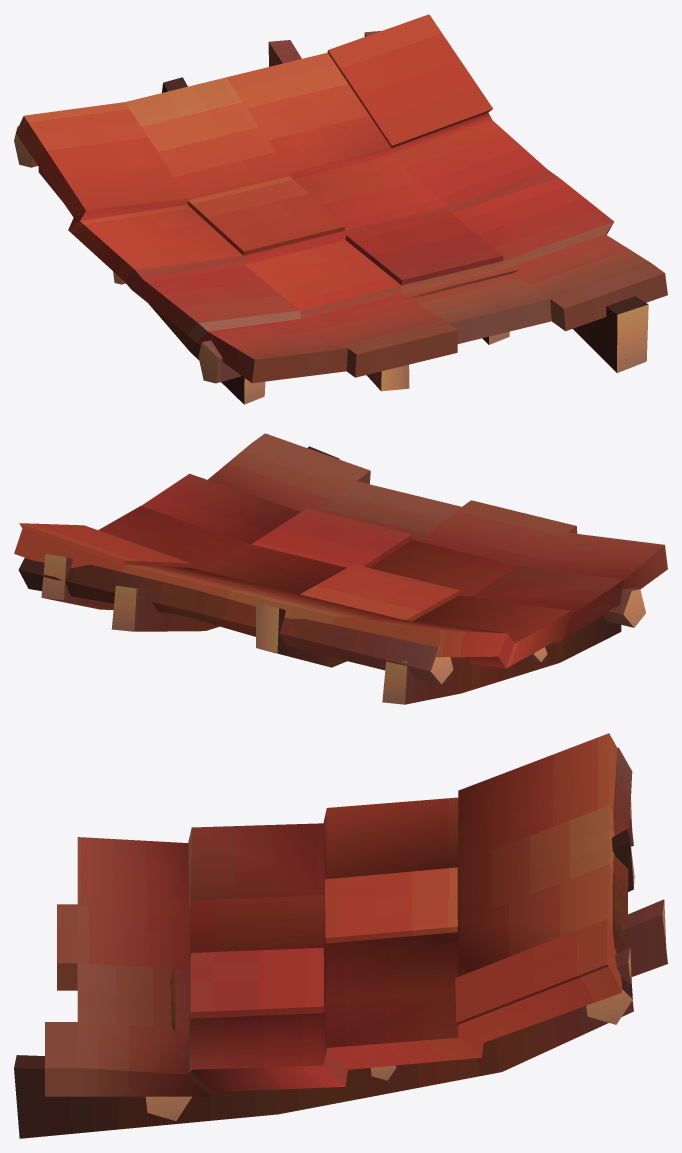
Rendered from Roof_001.FBX.
3 views of the same model, one above another, from view 1: azimuth 30°, elevation 25°; view 2: azimuth 150°, elevation 25°; view 3: azimuth 270°, elevation 25° (orthographic). The views are drawn at different scales.
Parts seen in each view (by area): view 1: Roof_001; view 2: Roof_001; view 3: Roof_001.
Part boxes in pixels (<box>): Roof_001: <box>14,14,667,404</box>; Roof_001: <box>14,433,667,704</box>; Roof_001: <box>14,733,667,1138</box>.
Bounding box in the file's own units: 0.5858 × 0.6515 × 0.2152.
